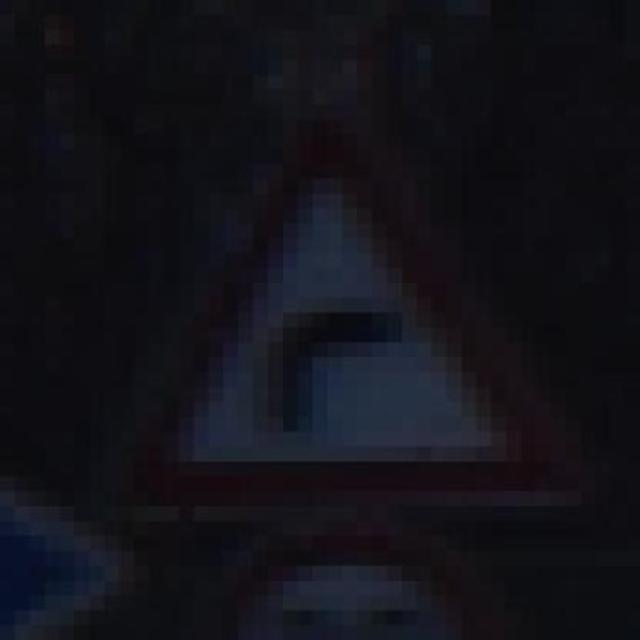Dangerous Rright Curve Ahead: (89, 104, 580, 550)
